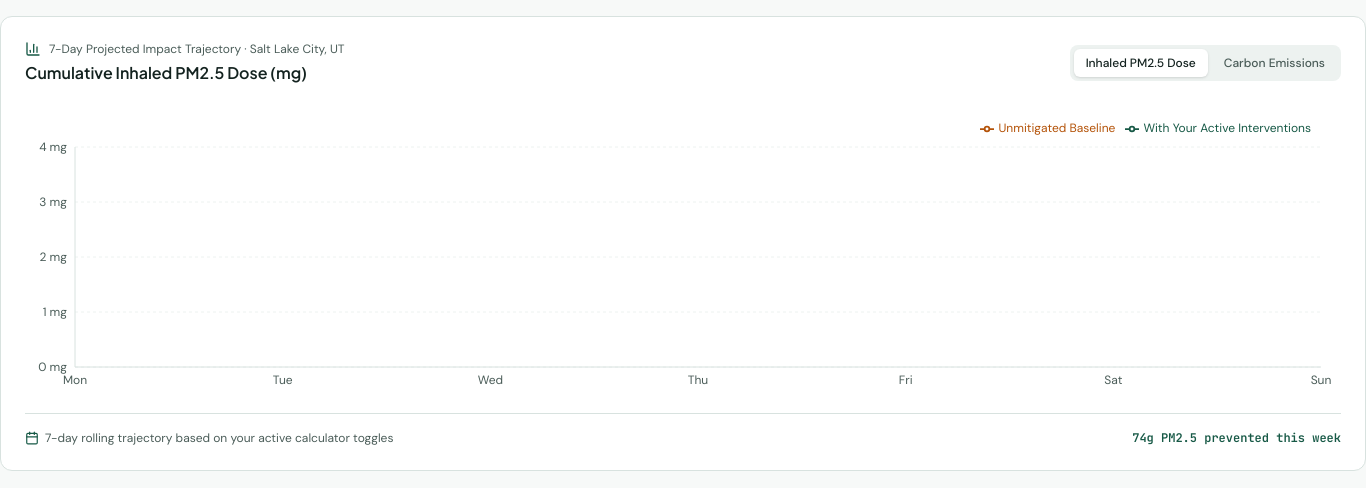
Test: VinterKlar UI Components & Accessibility › EmissionChart toggles between Inhaled PM2.5 Dose and Carbon Emissions with aria-pressed
The width and height of the screenshot is (1366, 488).
Expected: the text "74g PM2.5 prevented this week" is shown, [1132, 430, 1341, 446]
Click the button "Carbon Emissions": [1274, 63] box [1212, 49, 1337, 77]
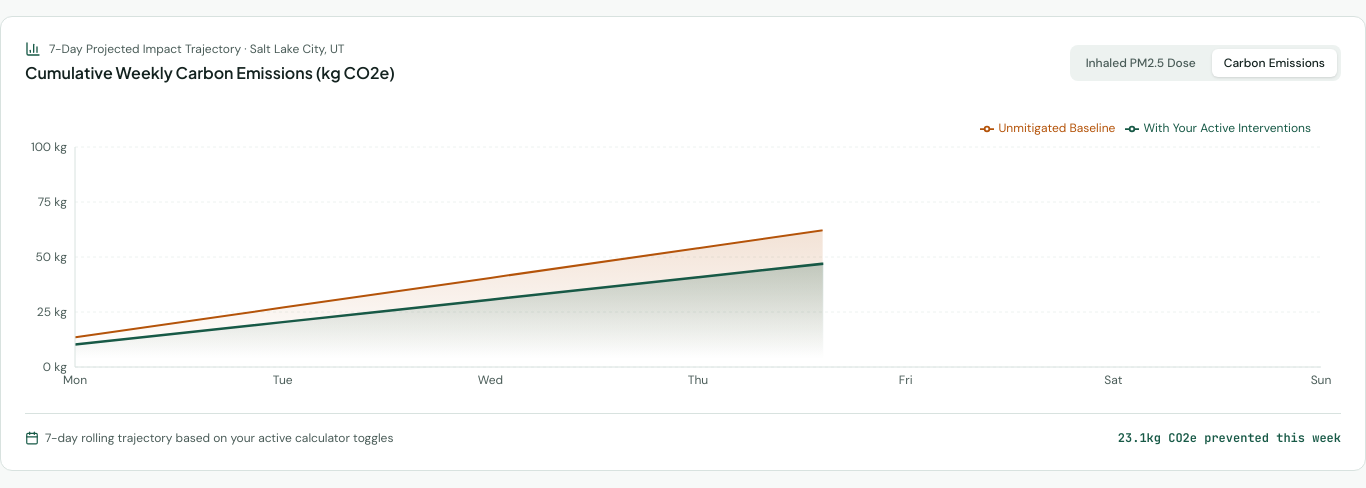
Result: the text "23.1kg CO2e prevented this week" is shown at [1118, 430, 1341, 446]
